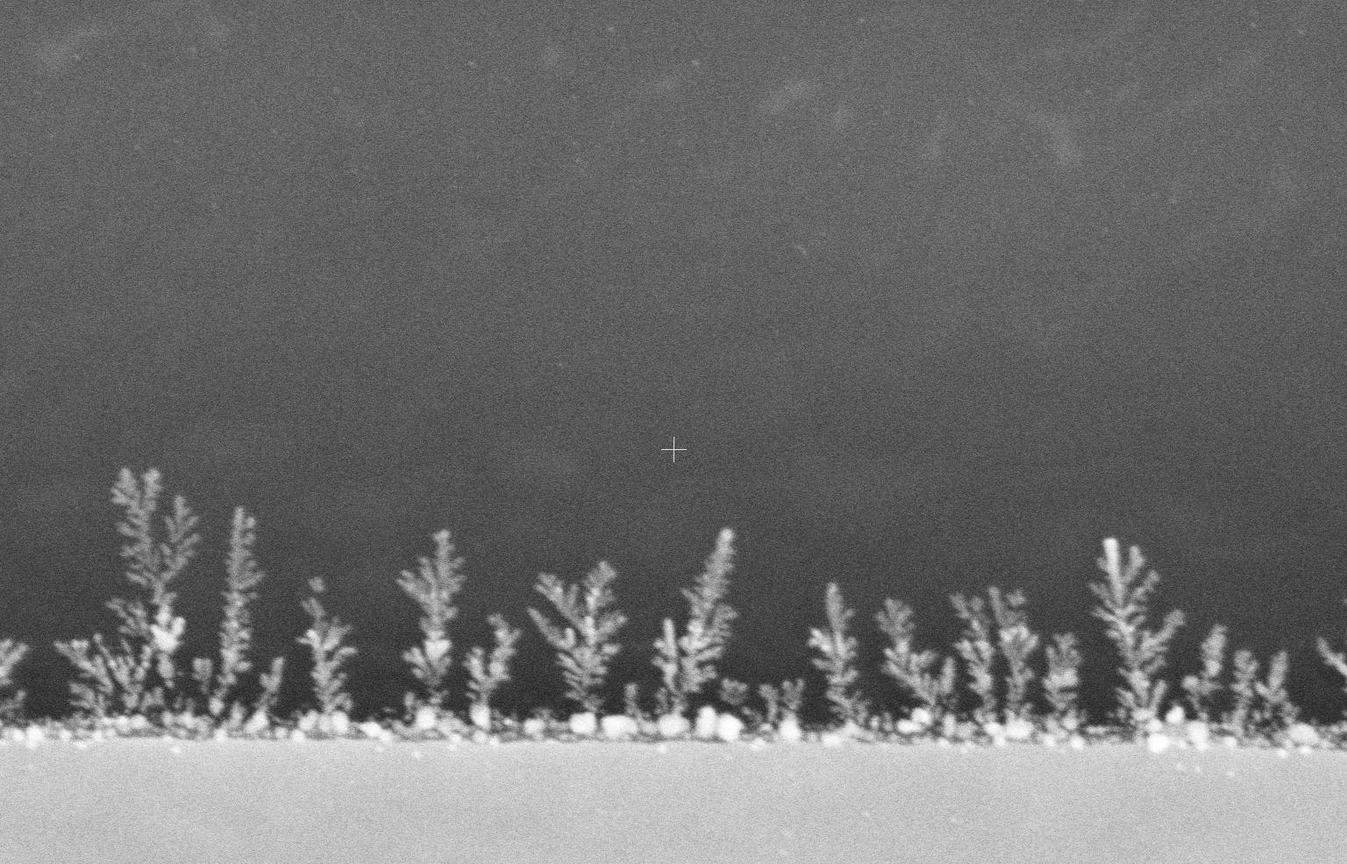Dendrite: (0, 468, 302, 747), (1084, 538, 1346, 751), (397, 530, 571, 742), (529, 561, 657, 741), (286, 578, 423, 742), (808, 582, 942, 743), (951, 586, 1083, 742), (652, 528, 743, 741), (876, 598, 1007, 745), (719, 679, 845, 746), (951, 594, 1007, 742), (0, 638, 28, 721), (1316, 637, 1346, 696)
